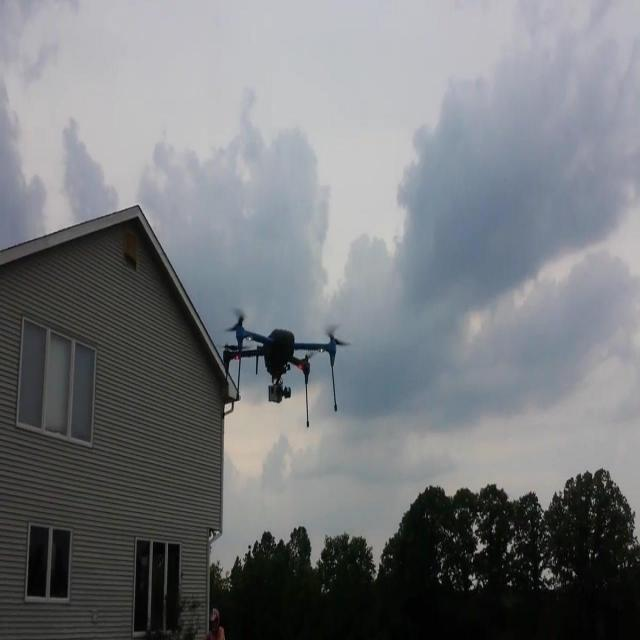UAV: (219, 307, 352, 428)
